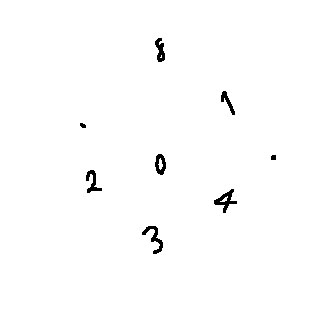.: (264, 148, 285, 163), (74, 117, 96, 129)
0: (143, 151, 180, 184)
1: (214, 82, 250, 122)
2: (77, 163, 120, 203)
3: (134, 217, 174, 260)
4: (213, 183, 250, 229)
8: (149, 39, 173, 69)
